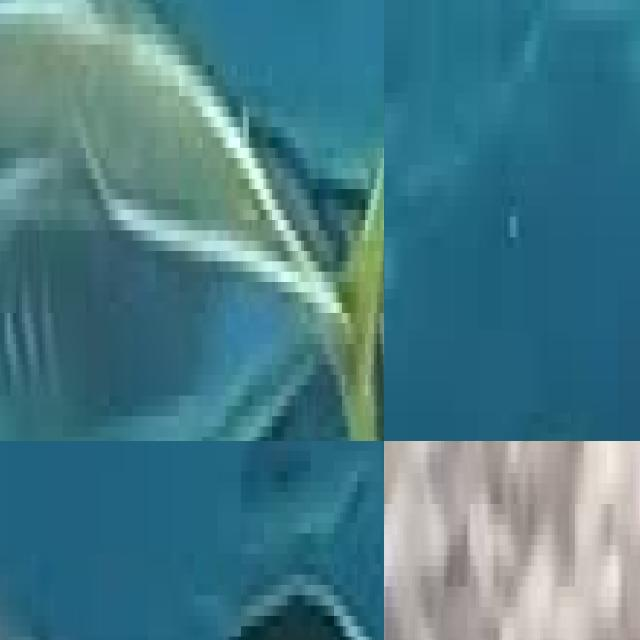fish: (0, 0, 384, 441)
